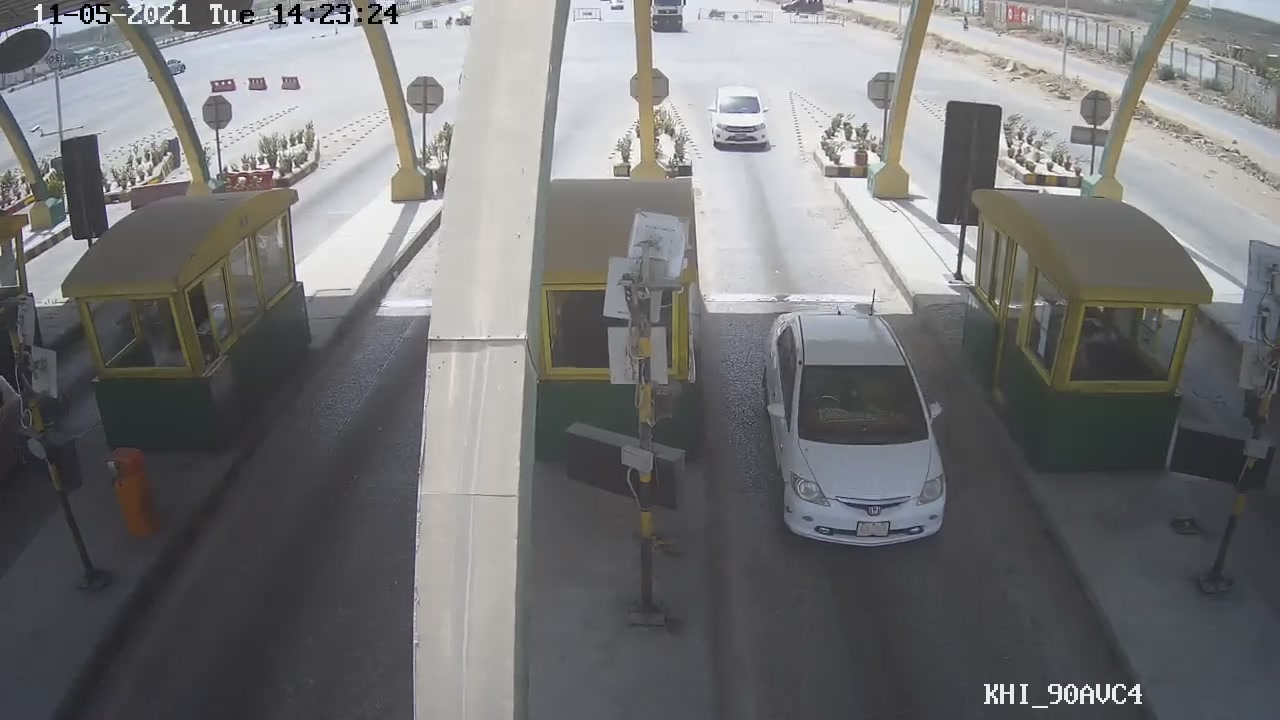F1: (764, 304, 950, 550)
